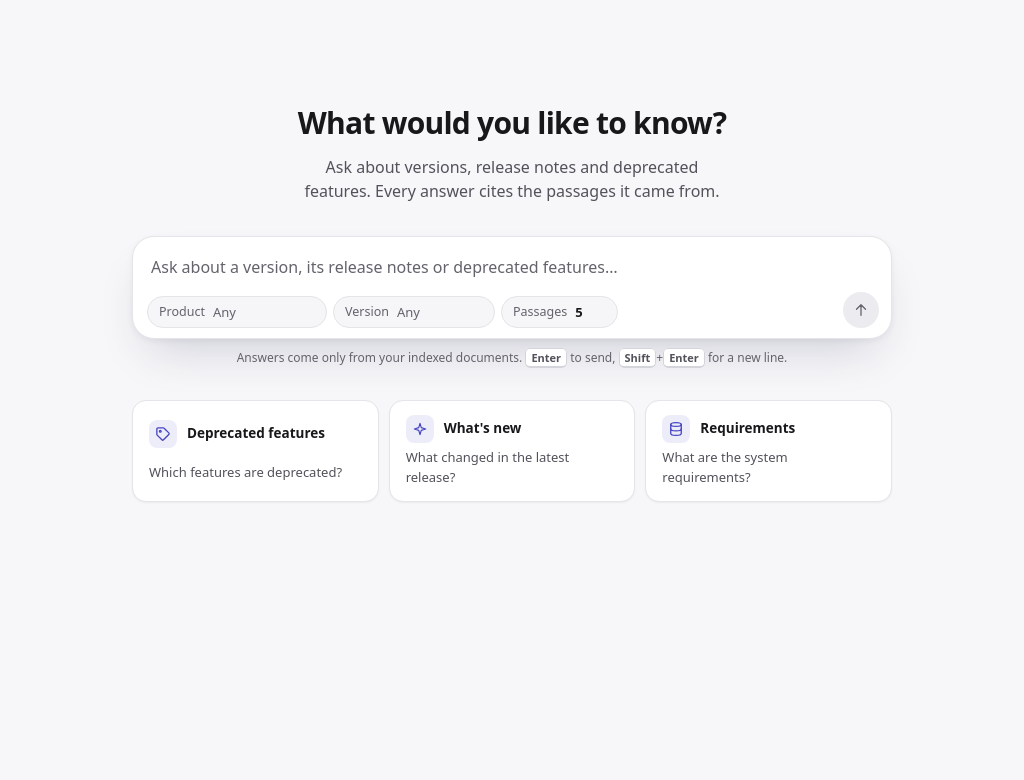
Test: ChatPage: citations and sources › a citation selects its source and opens and focuses the passage preview
The width and height of the screenshot is (1024, 780).
Step 1. Type "Q?" into the text box named "Question" → (513, 268), box [147,251,879,284]
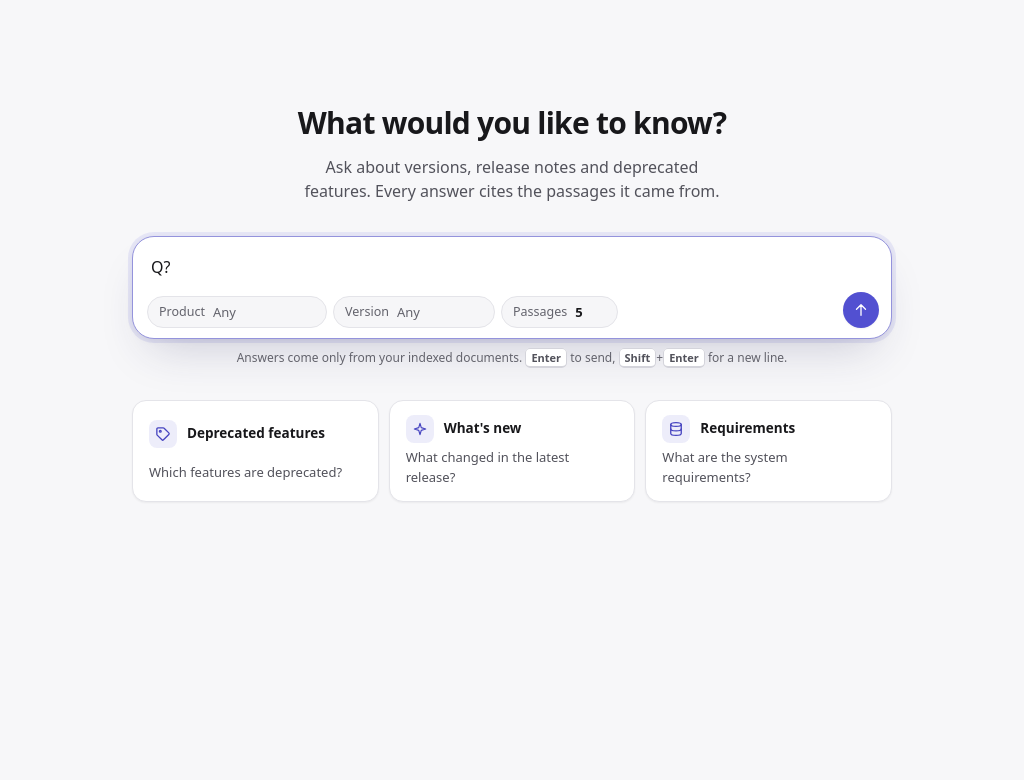
Step 2. Click the button named "Ask" → (861, 310), box [843,292,879,328]
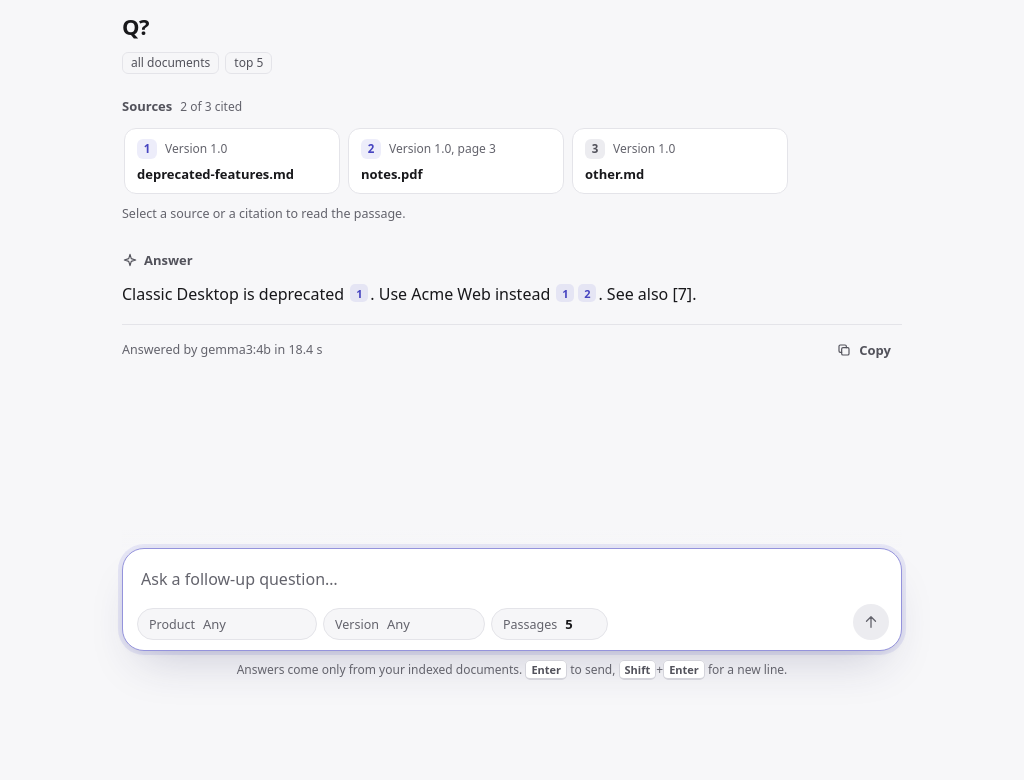
Result: the text ". See also [7]." is shown at [598,283,696,305]
Result: the text "Select a source or a citation to read the passage." is shown at [122,206,406,222]
Step 3. Click the button named "Show source 2" → (587, 294), box [578,284,596,302]
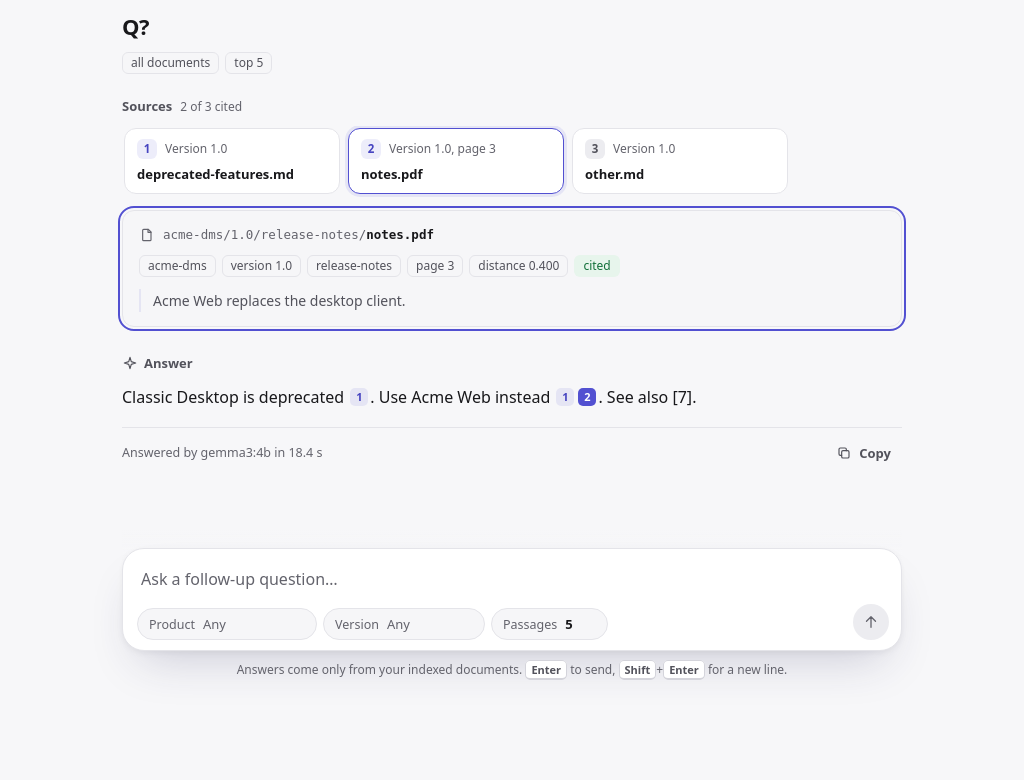
Result: the element named "Source 2" shows "Acme Web replaces the desktop client." at [153,291,406,310]
